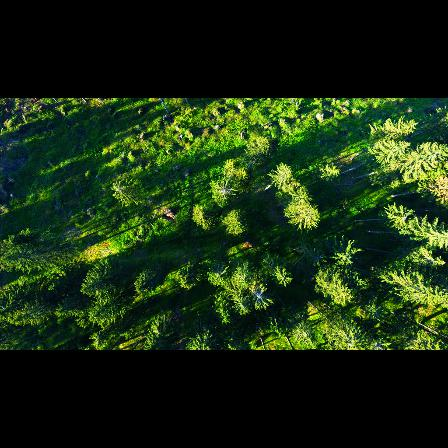Sick: (248, 286, 275, 307), (214, 179, 237, 202), (231, 293, 252, 314)
